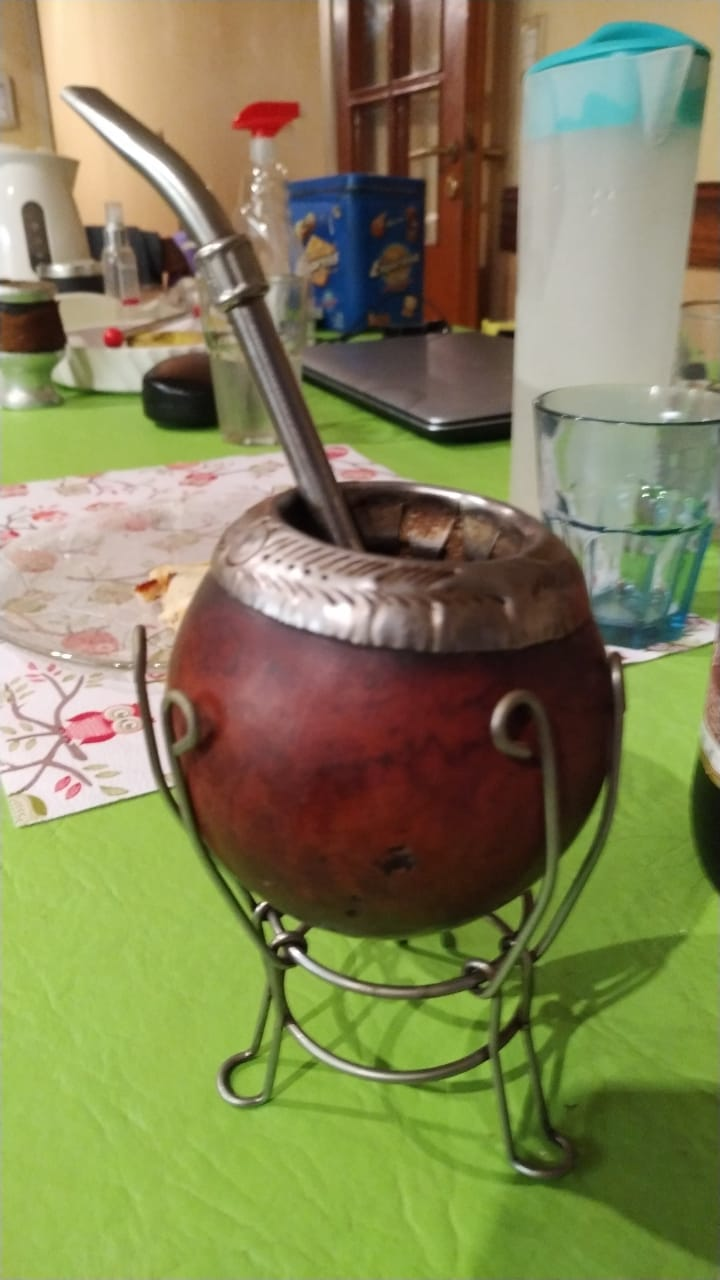calabaza: (49, 76, 634, 1186)
mate: (51, 78, 636, 1188)
